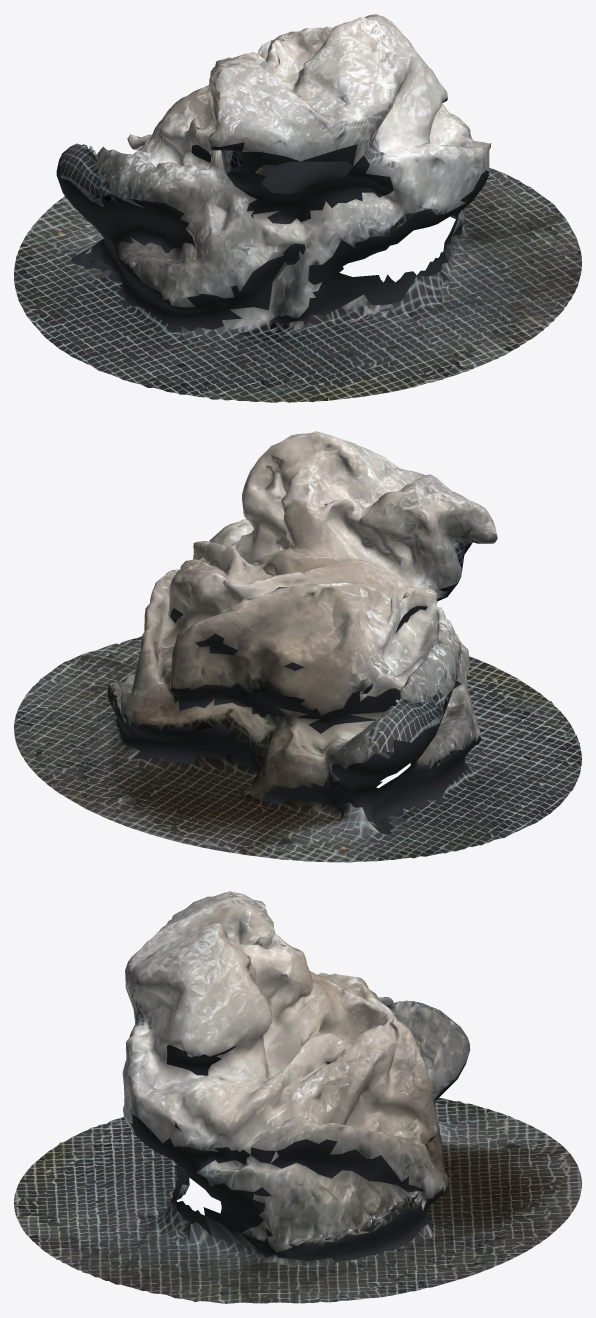
The model's file is carla.glb.
3 views of the same model, one above another, from view 1: azimuth 30°, elevation 25°; view 2: azimuth 150°, elevation 25°; view 3: azimuth 270°, elevation 25° (orthographic).
Parts seen in each view (by area): view 1: model.010; view 2: model.010; view 3: model.010.
Boxes of the visible parts, x1,y1,x2,y2 form: model.010: (14, 14, 581, 402); model.010: (14, 431, 581, 862); model.010: (14, 891, 581, 1303).
Bounding box in the file's own units: 6.87 × 3.92 × 6.87.
Materials: 3 (3 with a texture image).
